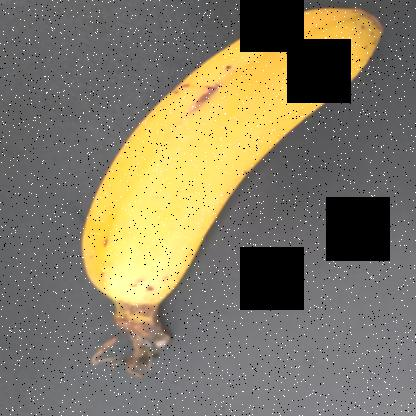freshripe: (65, 1, 411, 319)
